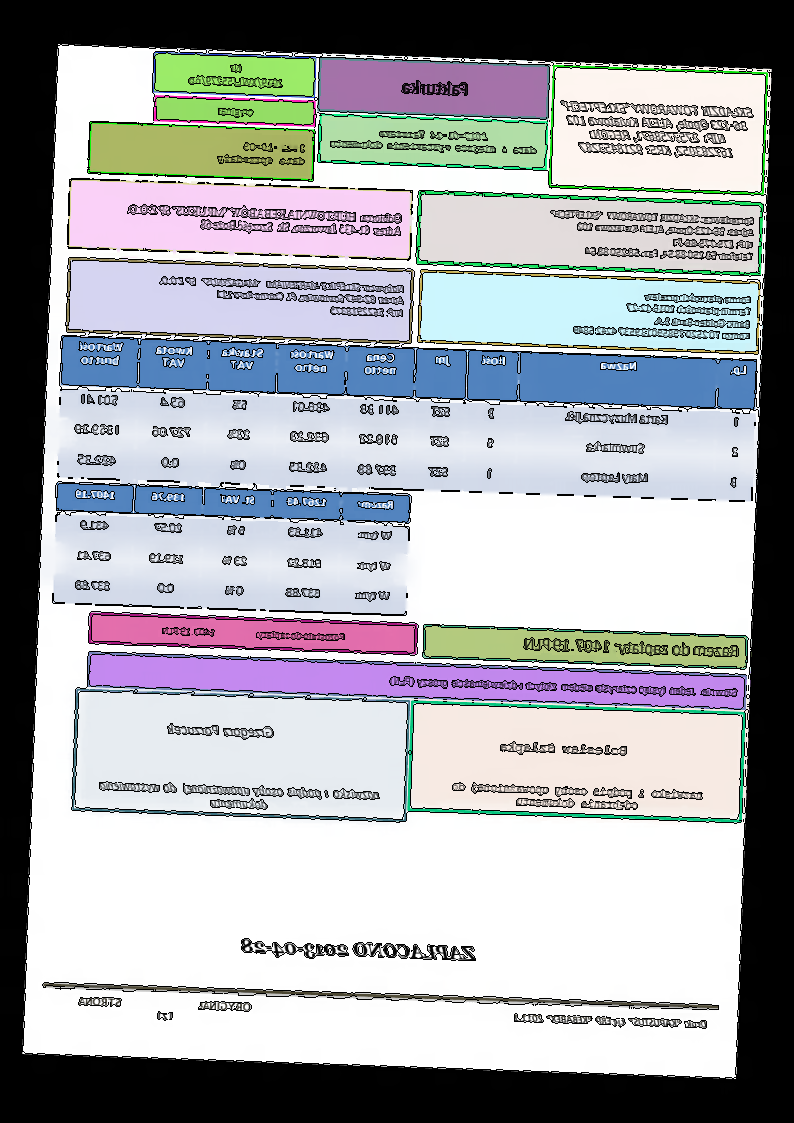Table: (57, 333, 759, 504), (51, 479, 412, 617)
TextBox: (556, 97, 756, 160), (546, 205, 757, 264), (156, 273, 407, 321), (124, 199, 406, 239), (97, 778, 382, 817), (571, 285, 755, 343), (388, 672, 740, 700), (449, 779, 706, 813), (238, 934, 480, 968), (328, 125, 539, 158), (74, 992, 255, 1027), (523, 633, 743, 661), (511, 1009, 710, 1032), (159, 622, 349, 645), (188, 58, 287, 92), (499, 737, 631, 761), (214, 139, 309, 170), (165, 720, 277, 741), (400, 77, 472, 99), (215, 104, 256, 119)
